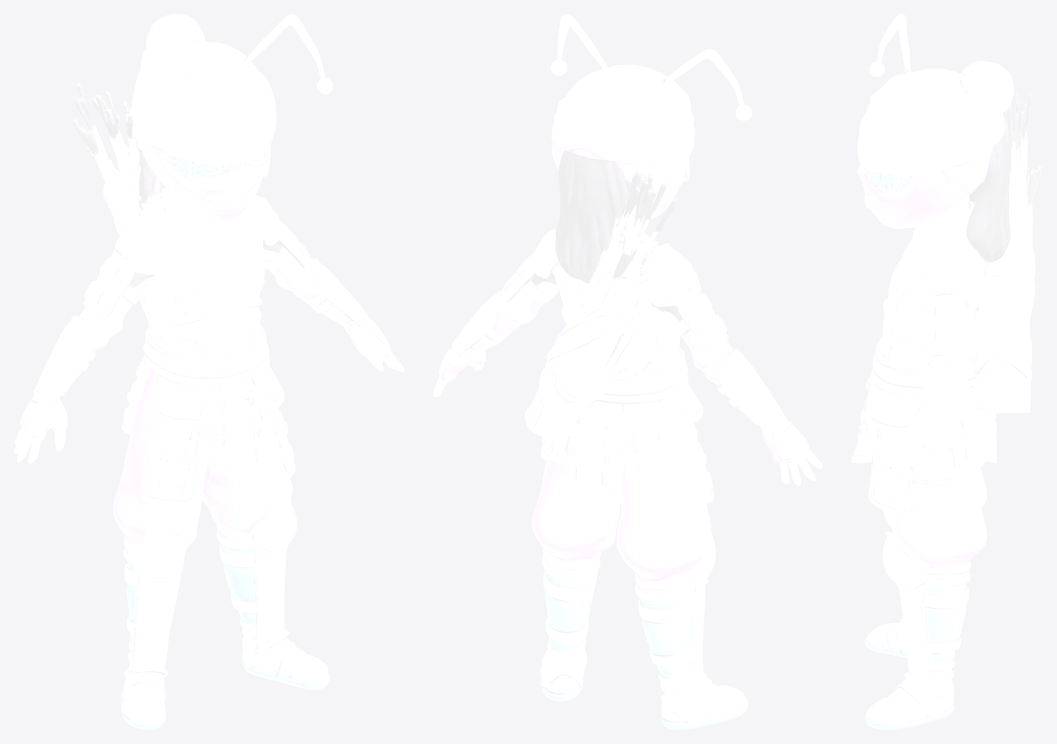
File: rebel001_apose.glb
The picture shows the model from 3 angles, left to right: view 1: azimuth 30°, elevation 25°; view 2: azimuth 150°, elevation 25°; view 3: azimuth 270°, elevation 25°; orthographic projection. The views are drawn at different scales.
Visible parts, largest first — view 1: Mesh_0; view 2: Mesh_0; view 3: Mesh_0.
Boxes of the visible parts, bbox=[...] form: Mesh_0: bbox=[14, 14, 404, 729]; Mesh_0: bbox=[433, 14, 822, 729]; Mesh_0: bbox=[851, 14, 1042, 729].
Size of the model in its own units: 114 by 190 by 51.87.
1 material, 1 textured.
